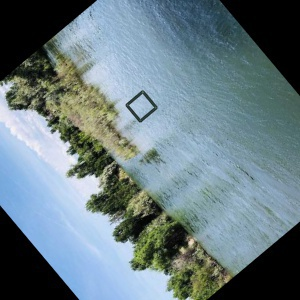square: (125, 89, 159, 124)
